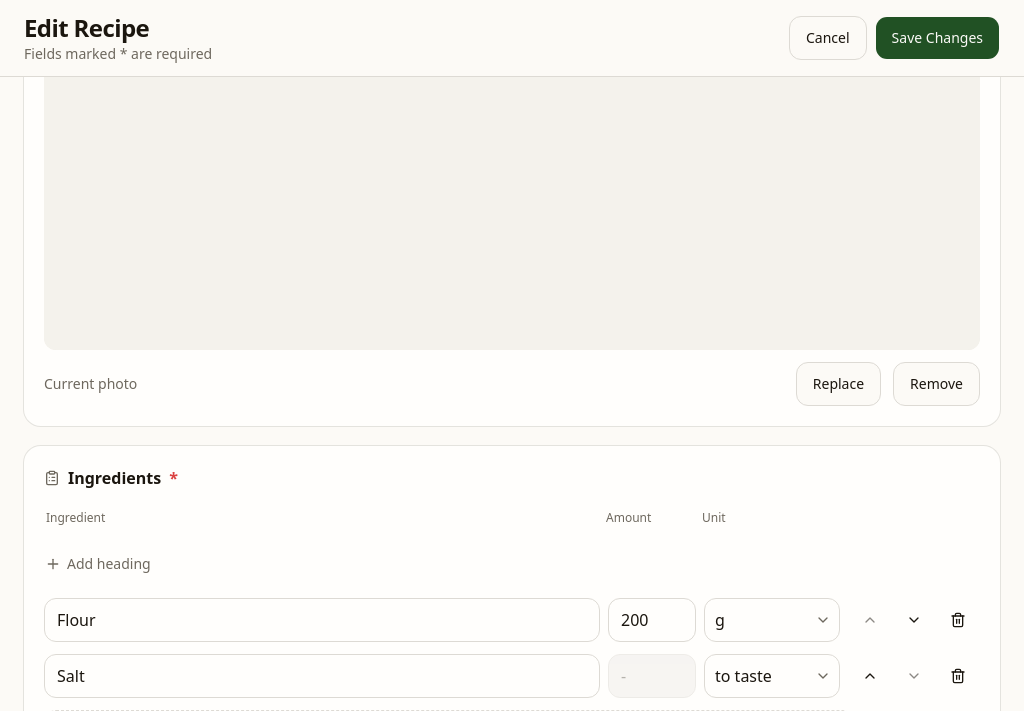
Test case: notices an image-only change: Cancel asks first and unloading warns
(page scrolled)
Click the button with aria-label "Remove cover photo": click(937, 384) [893, 362, 980, 406]
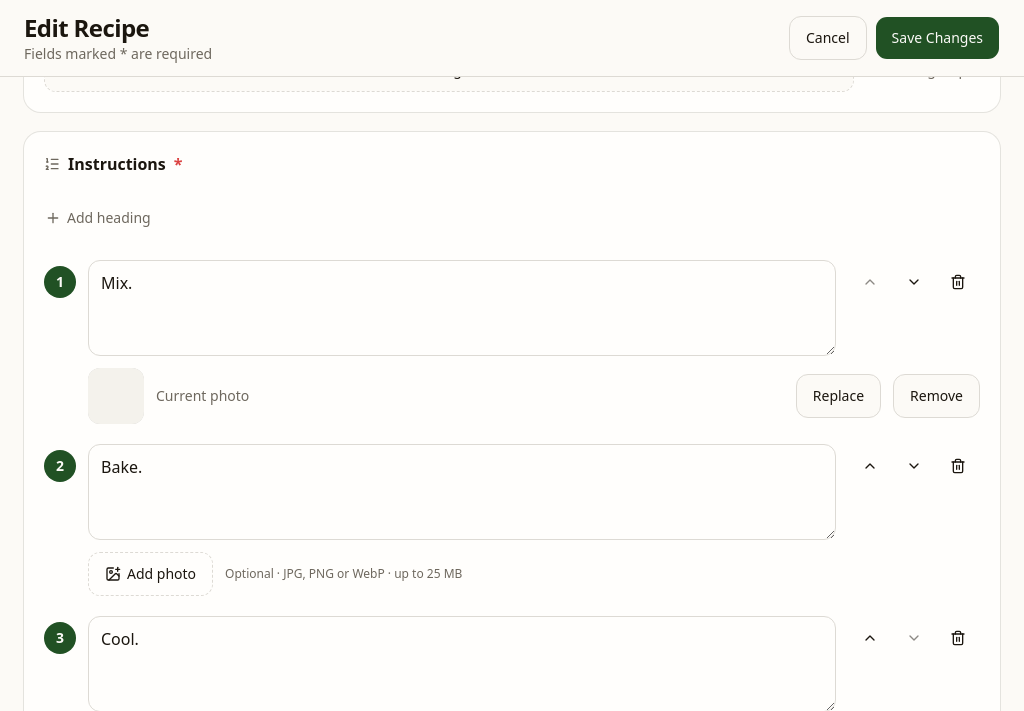
Click the button "Cancel": click(828, 38) [789, 16, 867, 60]
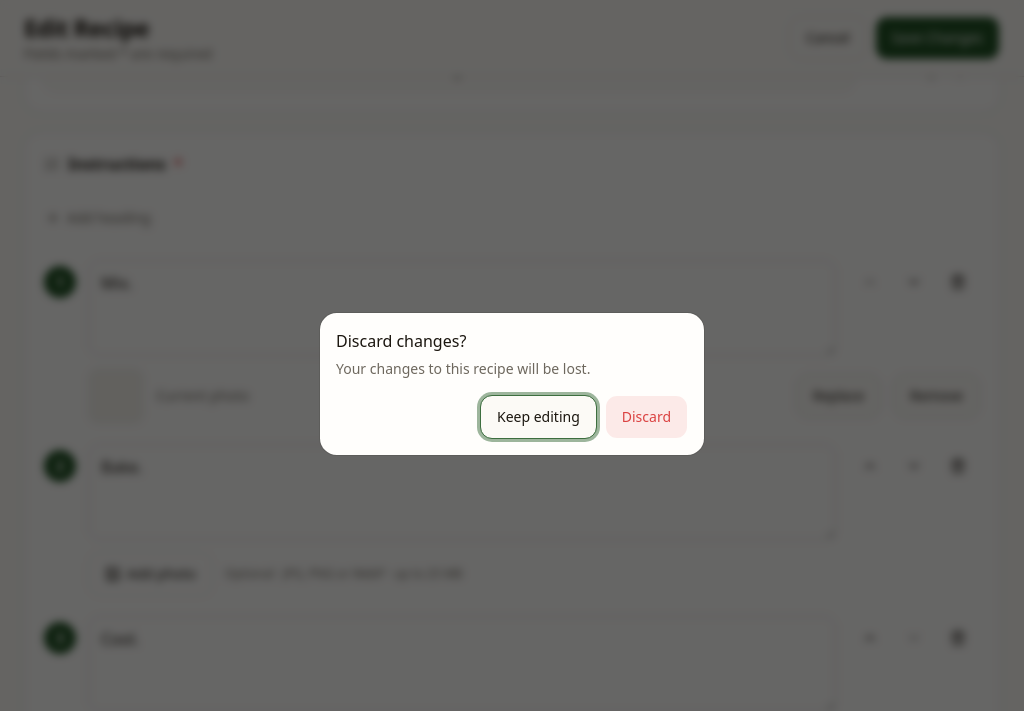
Result: the dialog "Discard changes?" is shown at [320, 313, 704, 455]
